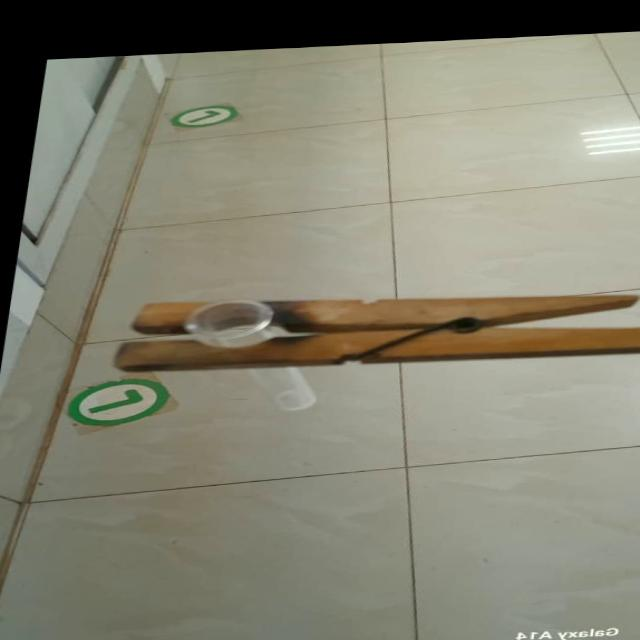Test Tube Holder: (78, 276, 640, 381)
